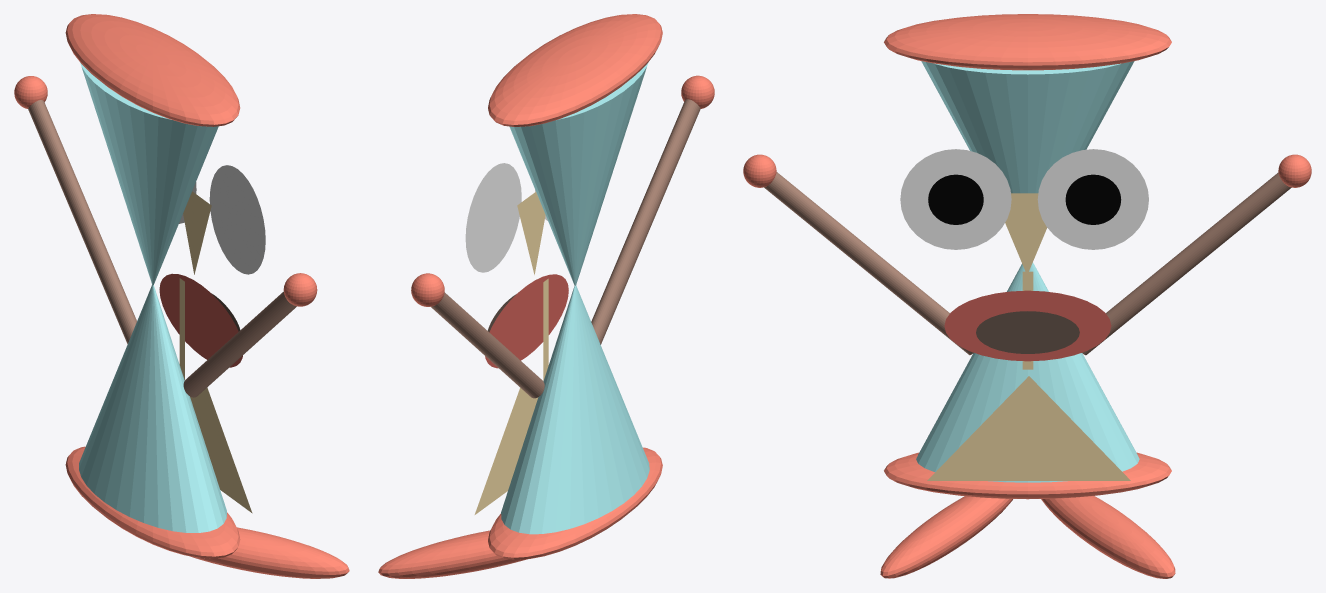
File: tokei.fbx
3 views of the same model, side by side, from view 1: azimuth 30°, elevation 25°; view 2: azimuth 150°, elevation 25°; view 3: azimuth 270°, elevation 25° (orthographic).
Parts seen in each view (by area): view 1: garasu, garasu1, a, ude1, me, asi, a2, kuti, ude, suna, suna.001, te.001 (+2 smaller); view 2: garasu, garasu1, a, ude, me.002, a2, kuti, asi1, ude1, suna, suna.001, te (+2 smaller); view 3: garasu1, a, garasu, suna, me, me.002, kuti, a2, asi1, ude, ude1, asi (+6 smaller).
Part boxes in pixels (left/top/right/bottom): garasu: left=79, top=285, right=226, bottom=532; garasu1: left=80, top=62, right=218, bottom=285; a: left=65, top=14, right=240, bottom=126; ude1: left=28, top=100, right=136, bottom=343; me: left=209, top=165, right=265, bottom=274; asi: left=190, top=527, right=349, bottom=578; a2: left=65, top=446, right=240, bottom=558; kuti: left=159, top=273, right=242, bottom=367; ude: left=183, top=291, right=296, bottom=397; suna: left=190, top=387, right=252, bottom=513; suna.001: left=183, top=191, right=211, bottom=274; te.001: left=283, top=273, right=317, bottom=306; garasu: left=501, top=285, right=649, bottom=534; garasu1: left=509, top=63, right=647, bottom=285; a: left=488, top=14, right=662, bottom=126; ude: left=591, top=99, right=700, bottom=344; me.002: left=465, top=163, right=521, bottom=272; a2: left=488, top=447, right=662, bottom=559; kuti: left=485, top=274, right=568, bottom=368; asi1: left=378, top=530, right=527, bottom=578; ude1: left=431, top=292, right=544, bottom=398; suna: left=474, top=387, right=538, bottom=514; suna.001: left=517, top=192, right=545, bottom=274; te: left=411, top=273, right=444, bottom=306; garasu1: left=921, top=61, right=1134, bottom=193; a: left=884, top=14, right=1171, bottom=70; garasu: left=916, top=262, right=1139, bottom=482; suna: left=927, top=376, right=1130, bottom=480; me: left=900, top=149, right=1011, bottom=249; me.002: left=1037, top=149, right=1148, bottom=249; kuti: left=944, top=290, right=1111, bottom=361; a2: left=884, top=452, right=1171, bottom=499; asi1: left=1041, top=496, right=1175, bottom=578; ude: left=764, top=172, right=973, bottom=355; ude1: left=1082, top=172, right=1291, bottom=355; asi: left=880, top=496, right=1012, bottom=578.
Size of the model in its own units: 10.21 by 3.58 by 9.86.
